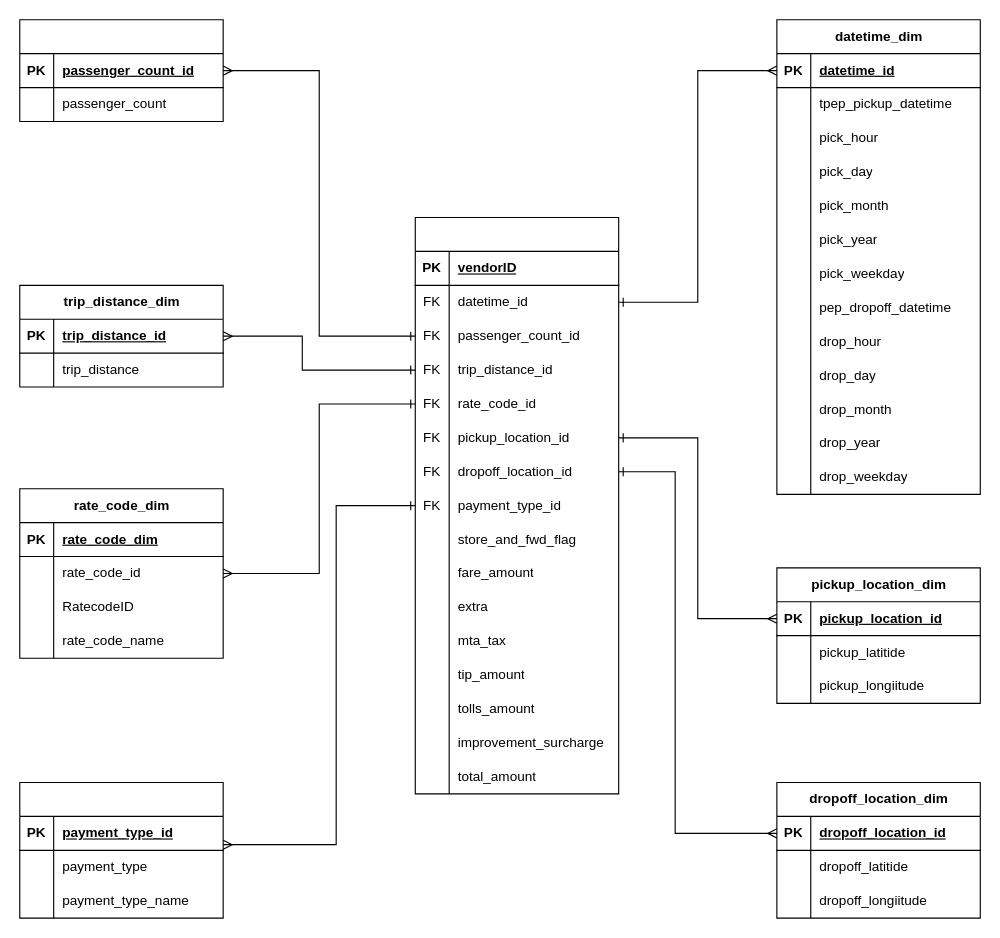
The diagram is 1000 pixels wide and 938 high, and some of its shapes have lost their labels. Each missing label, with the box of its shape:
Fact_table: (414, 216, 619, 794)
passenger_count_dim: (19, 19, 223, 121)
payment_type_dim: (19, 781, 223, 918)
